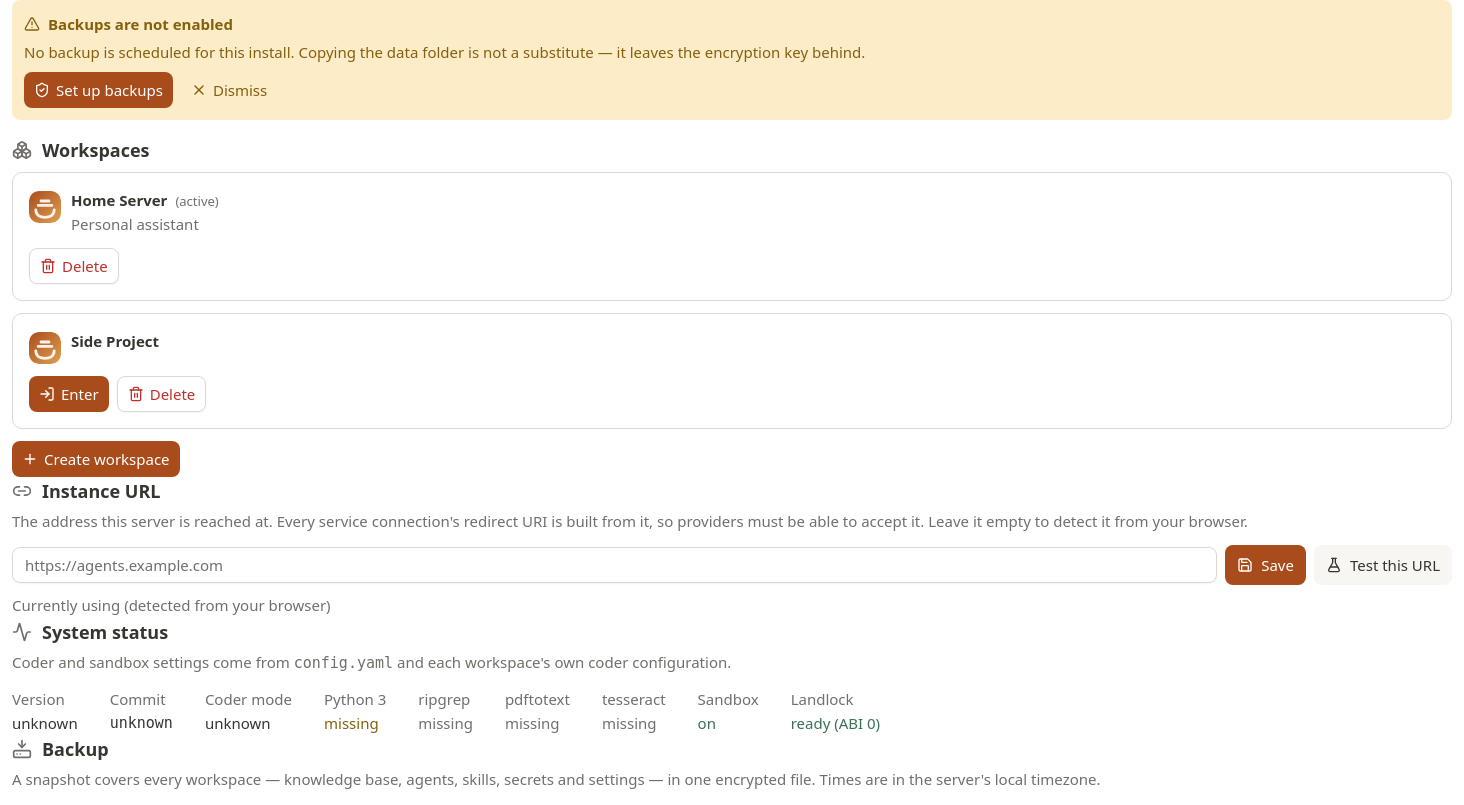
it: Delete workspace: non-active workspace has no extra warning
Click the button "Delete" below "Side Project" at [162, 394], box [117, 376, 206, 412]
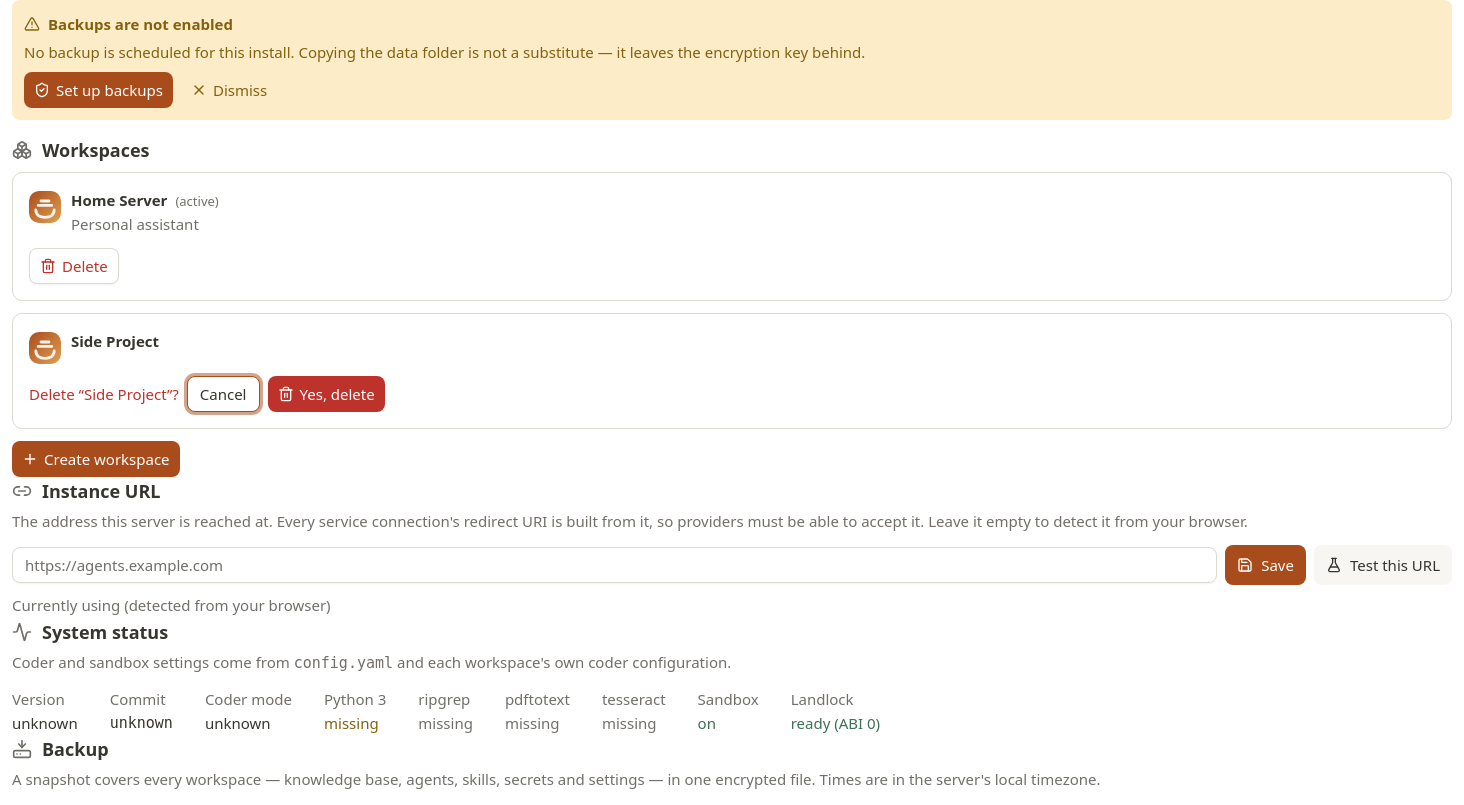
Now the text "Delete “Side Project”?" is shown, box [29, 382, 179, 406]
